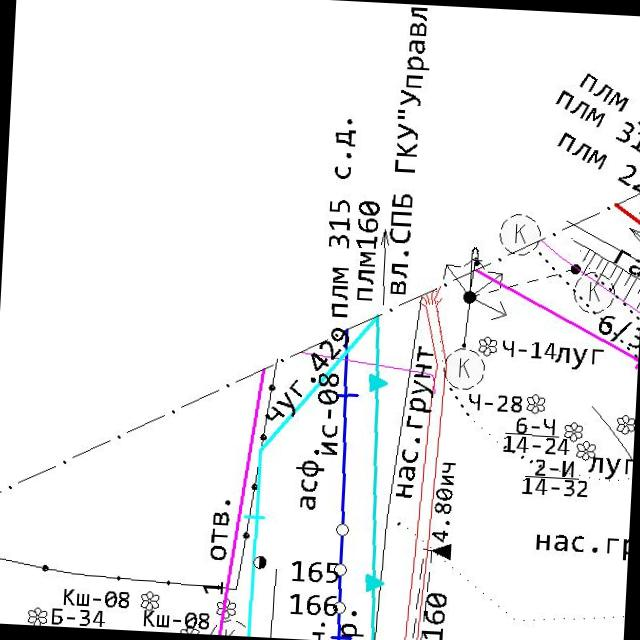bushes: (496, 212, 544, 258), (572, 270, 618, 316), (442, 346, 488, 392), (574, 439, 598, 462), (215, 597, 238, 621), (138, 590, 162, 612), (563, 421, 585, 444), (24, 605, 48, 626), (614, 414, 636, 436), (477, 335, 498, 358), (526, 393, 546, 415)
mark: (429, 540, 453, 562)
well: (334, 521, 352, 539), (332, 561, 349, 579), (331, 599, 348, 617)
